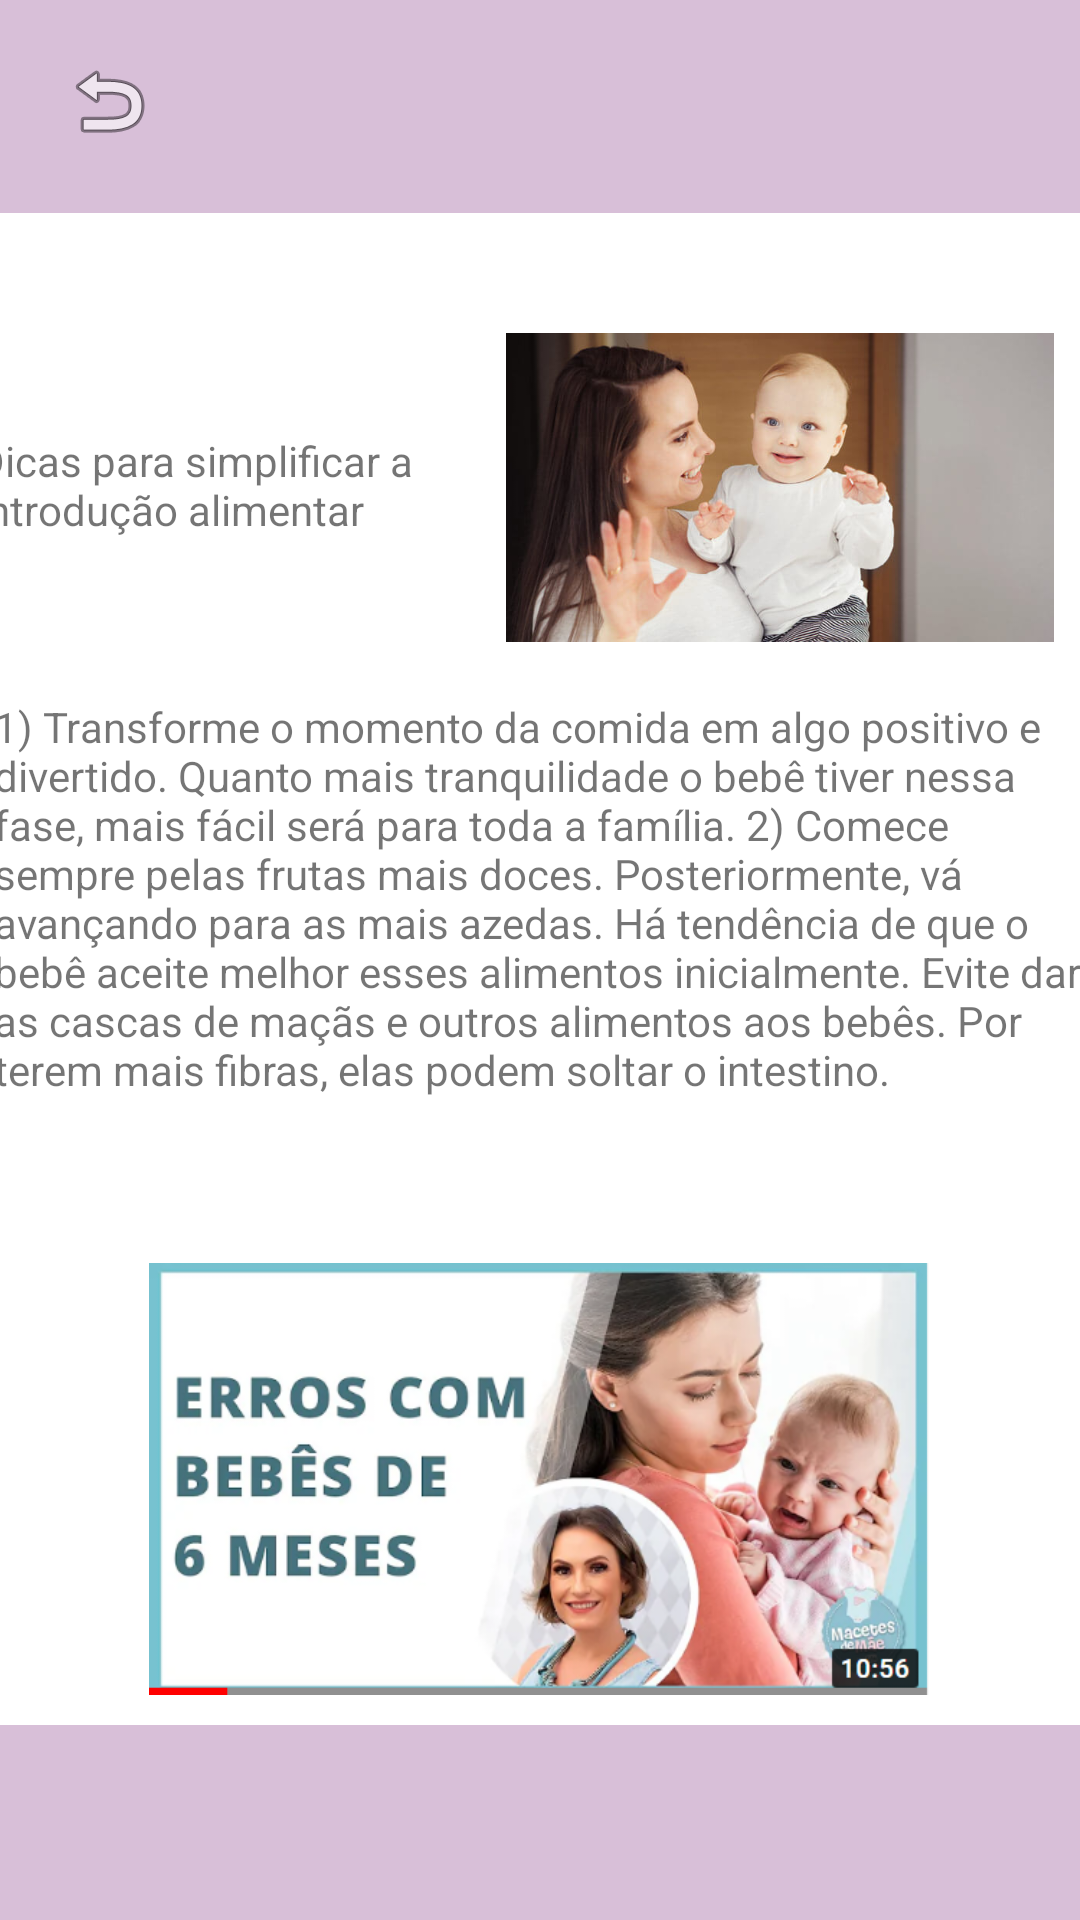

Icons on this 1080 × 1920 Android screen, each with its box as (x1, y1, x2, y2):
revert: (76, 70, 145, 133)
